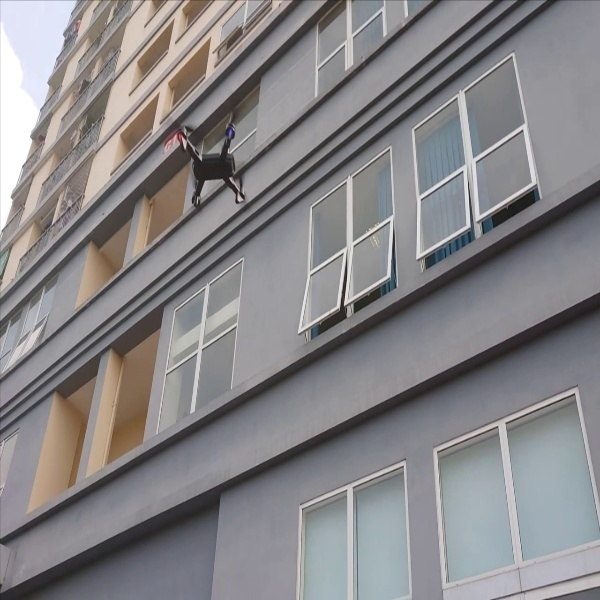drone: (170, 112, 258, 206)
